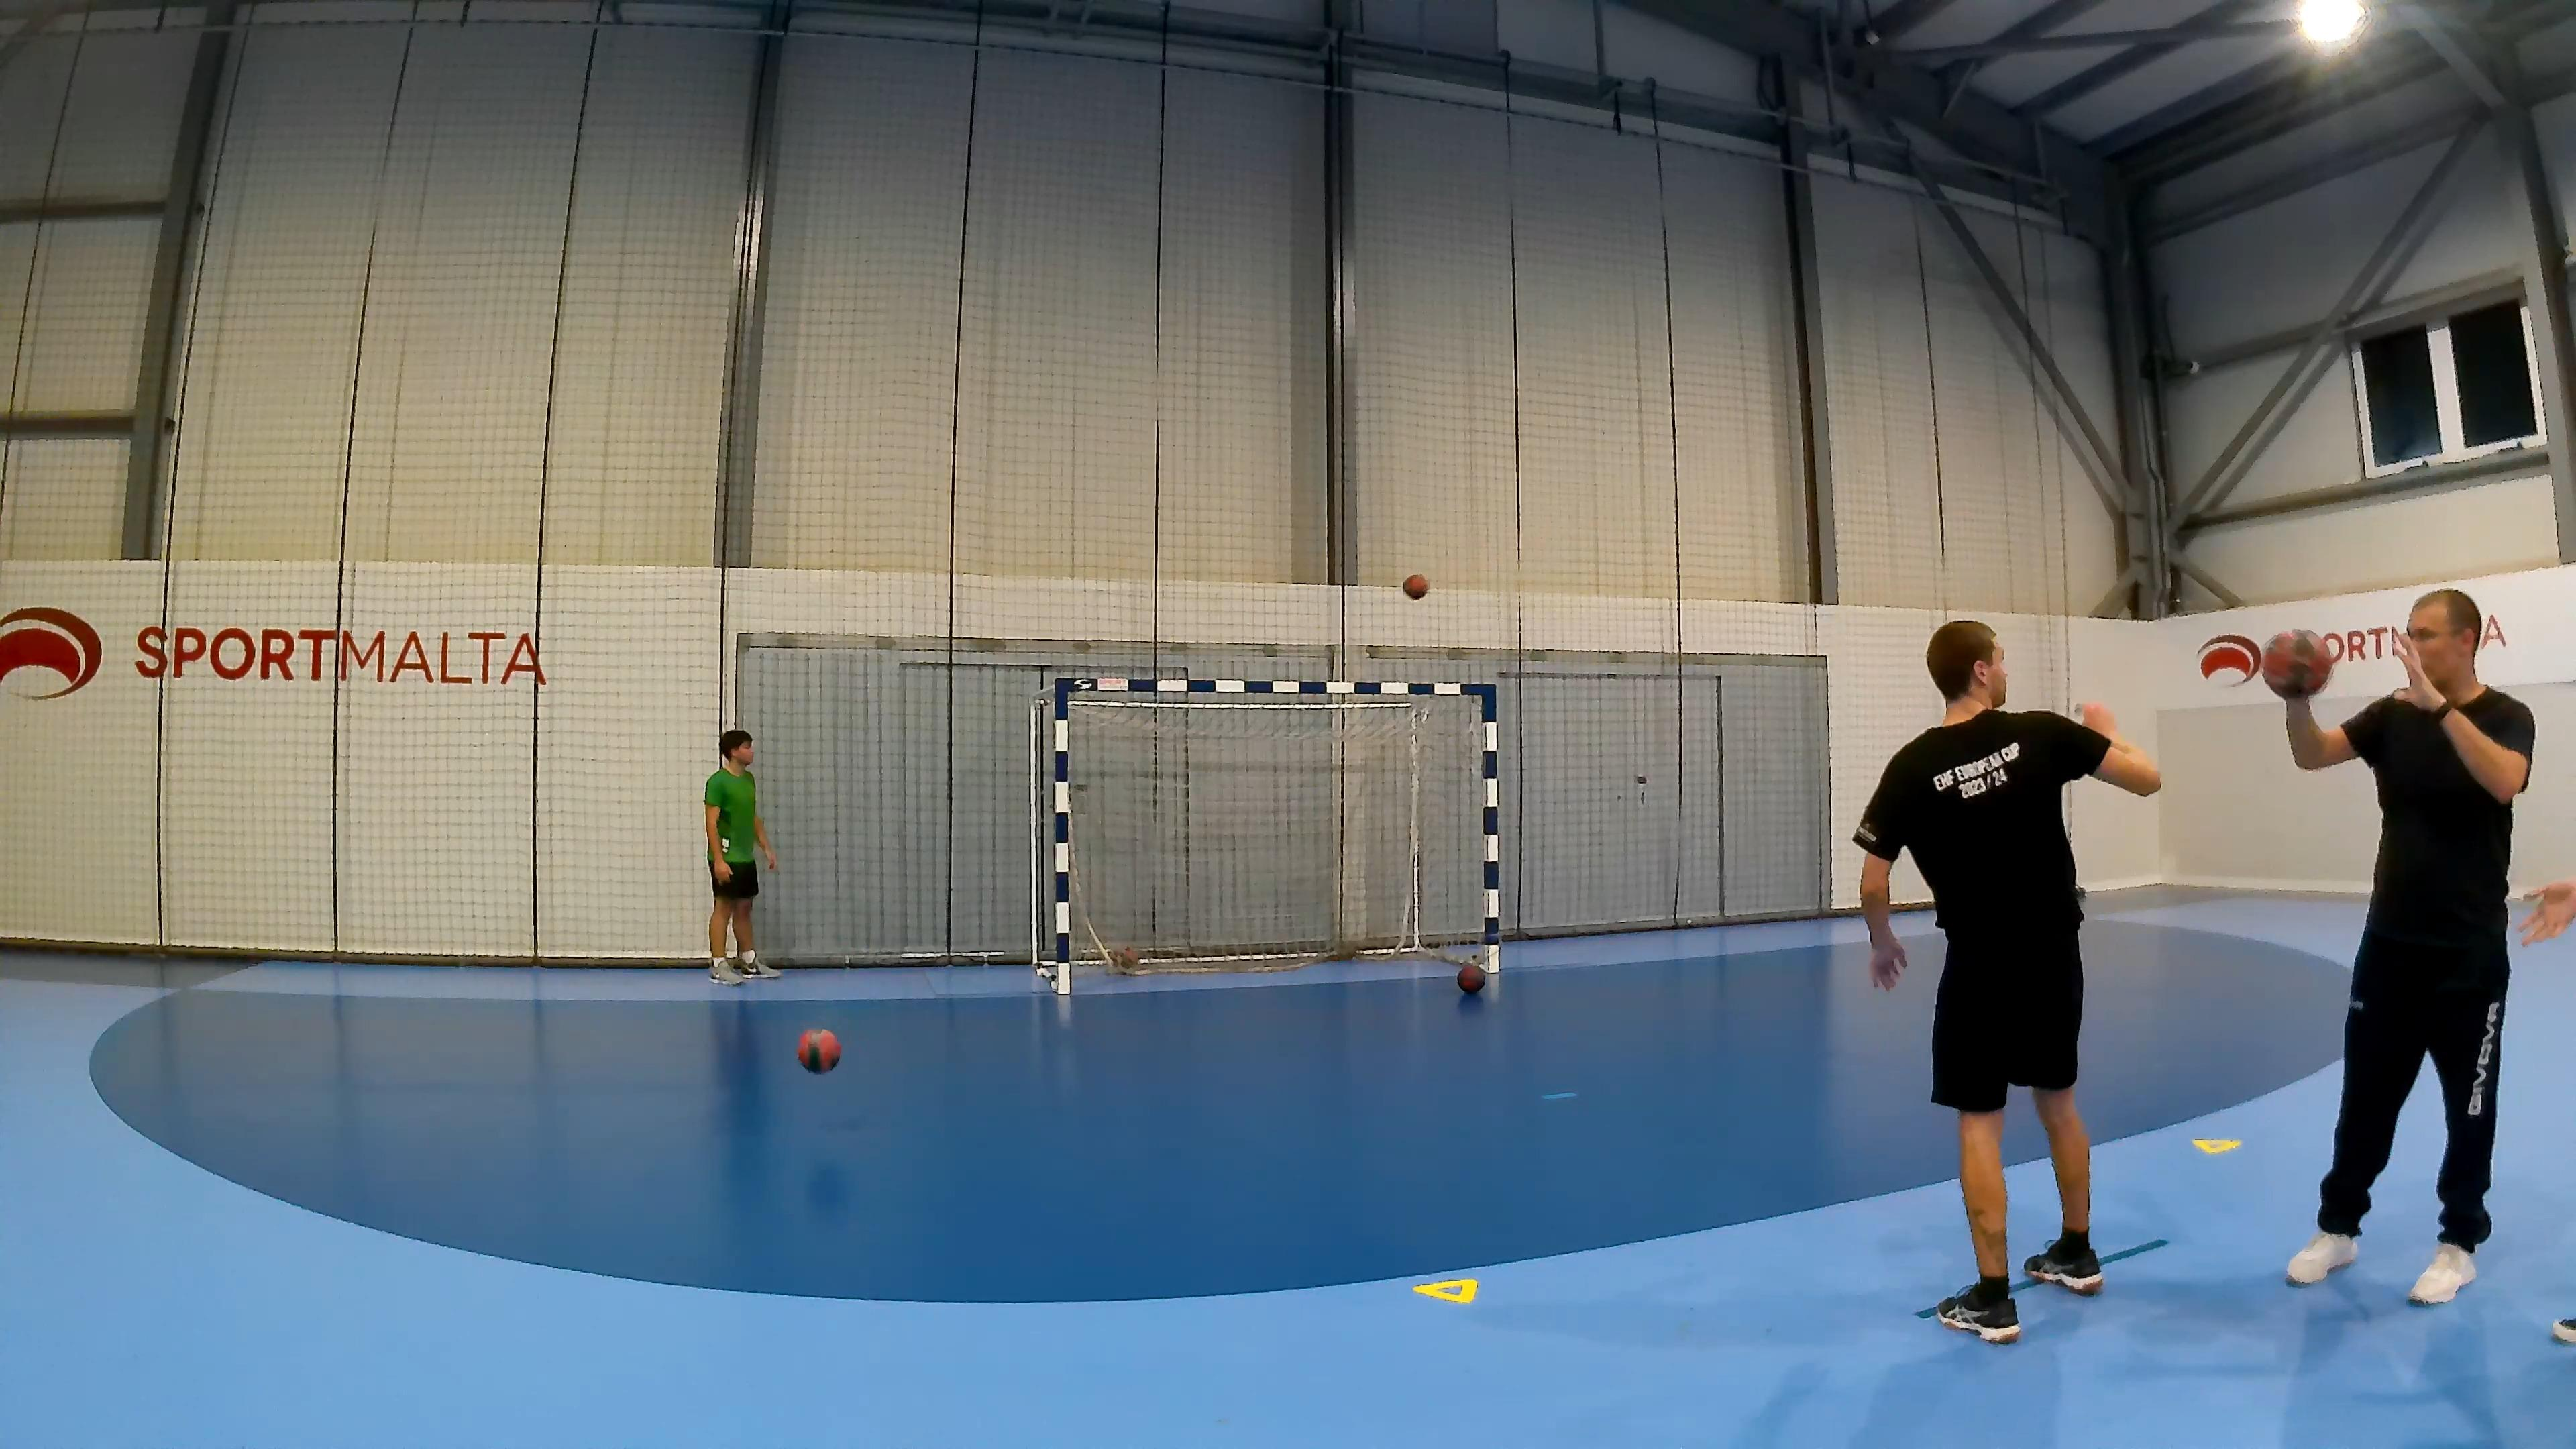handball: (2261, 628, 2332, 697), (796, 1028, 840, 1074), (1456, 961, 1484, 993), (1401, 571, 1426, 600)
